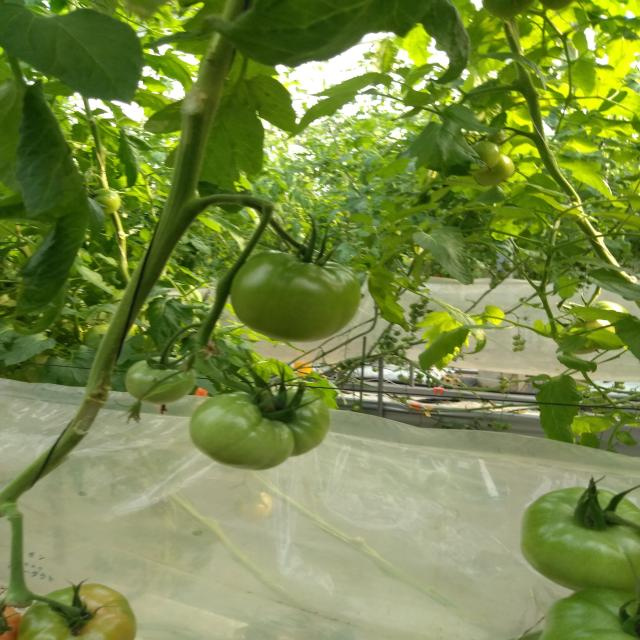yesil: (154, 384, 427, 490), (488, 466, 630, 605), (207, 231, 357, 355)
